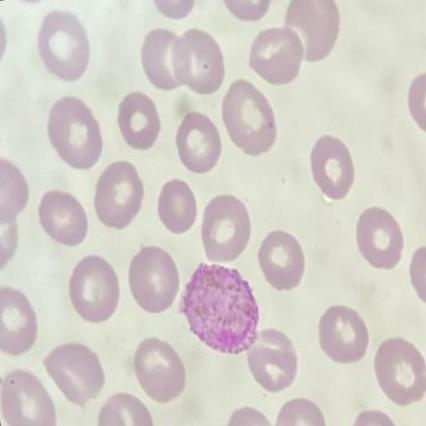Infected: (181, 264, 259, 352)
Uninfected: (218, 77, 278, 157), (47, 94, 101, 169), (38, 8, 89, 83), (44, 343, 104, 406), (131, 336, 184, 405), (373, 336, 426, 405), (140, 27, 195, 92), (128, 244, 180, 312), (69, 255, 119, 324), (201, 196, 251, 265), (94, 160, 142, 231), (174, 26, 224, 93), (248, 27, 304, 86), (284, 0, 340, 59), (247, 329, 298, 393), (309, 133, 356, 201), (354, 206, 404, 269), (1, 369, 56, 426), (318, 304, 370, 362), (257, 231, 305, 293), (173, 111, 221, 173), (37, 190, 89, 247), (0, 283, 38, 355), (118, 89, 160, 150), (158, 179, 198, 235)
